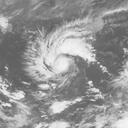cyclone: (26, 27, 91, 83)
